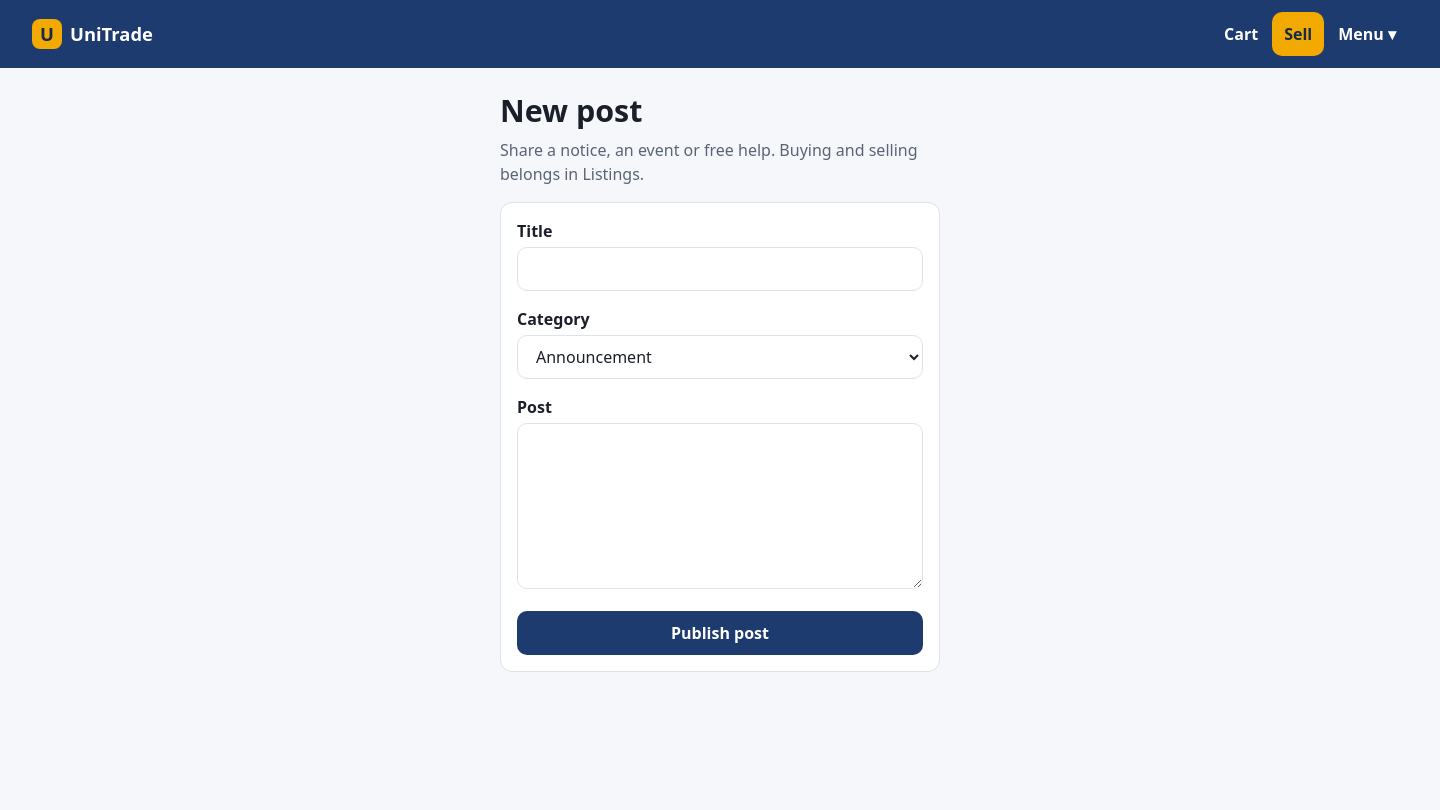
Test: FR5 - bulletin board › fr5_05 the post form checks title and text first, then publishes and opens the post
Click the button "Publish post": (720, 633) [517,611,923,655]
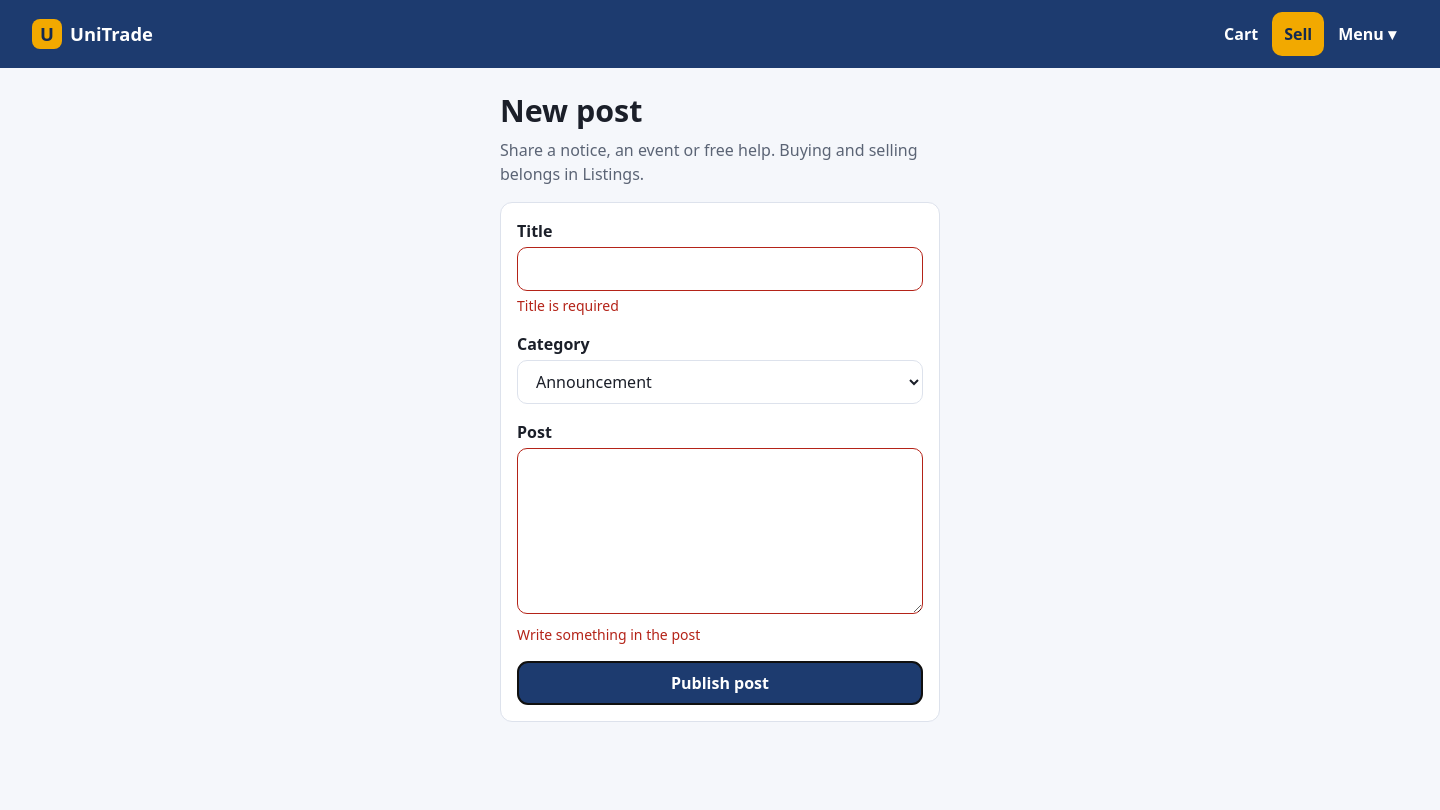
Expected: the text "Title is required" is shown, [517,296,619,315]
Expected: the text "Write something in the post" is shown, [517,625,700,644]
In the field labelled "Title": (720, 269) [517,247,923,291], type "Free tutoring"
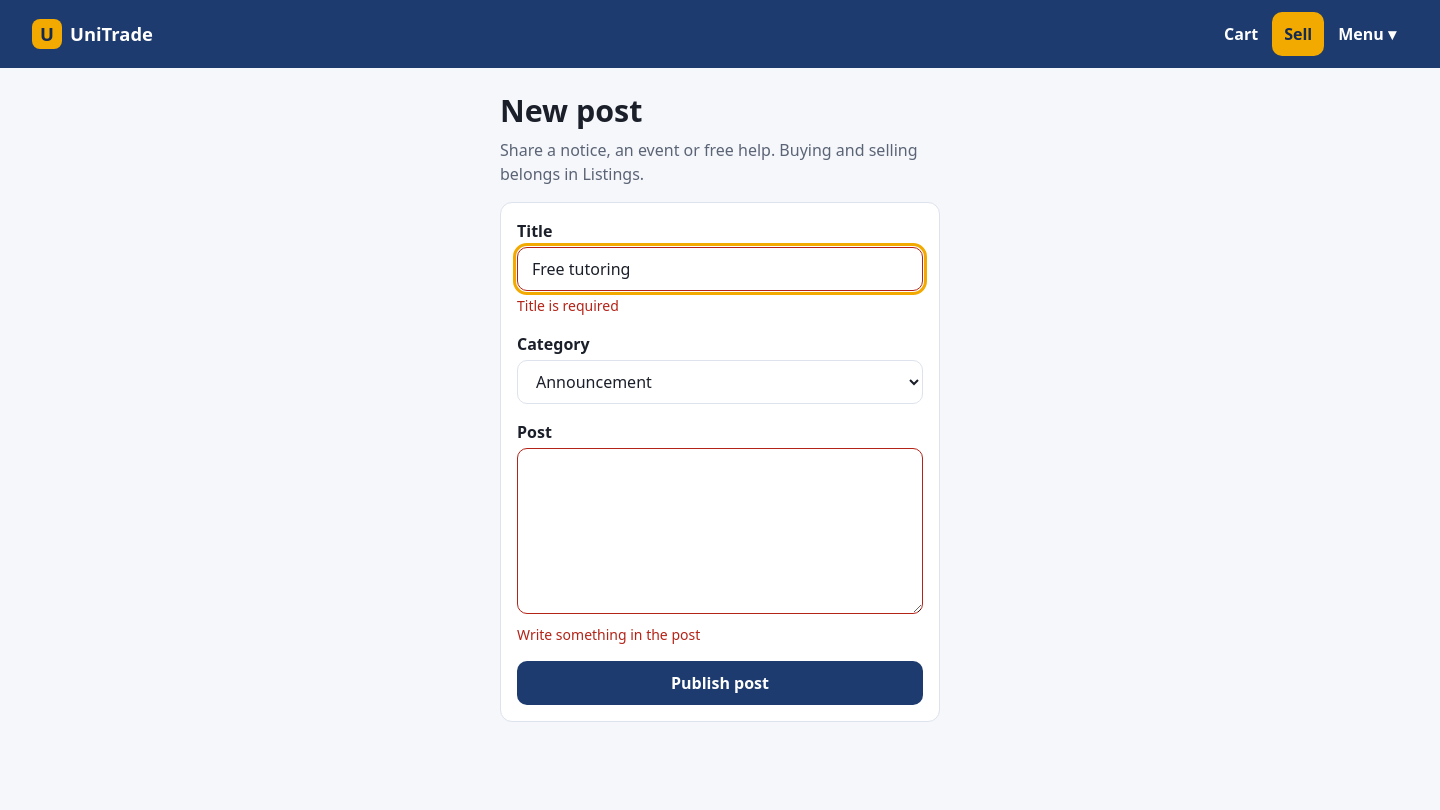
Select "Service" in the dropdown labelled "Category": (720, 382) [517,360,923,404]
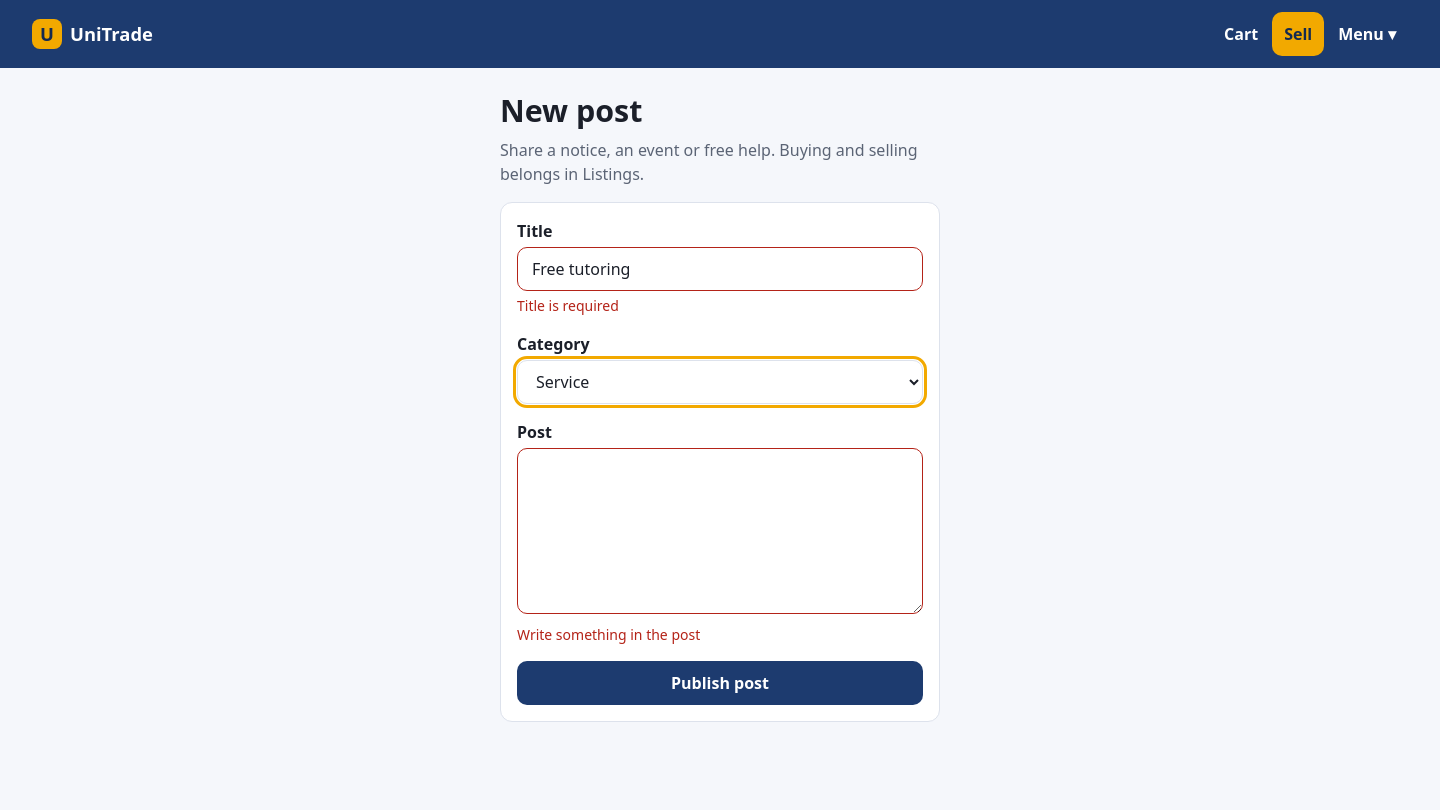
In the text box labelled "Post": (720, 531) [517,448,923,614], type "Every Tuesday"
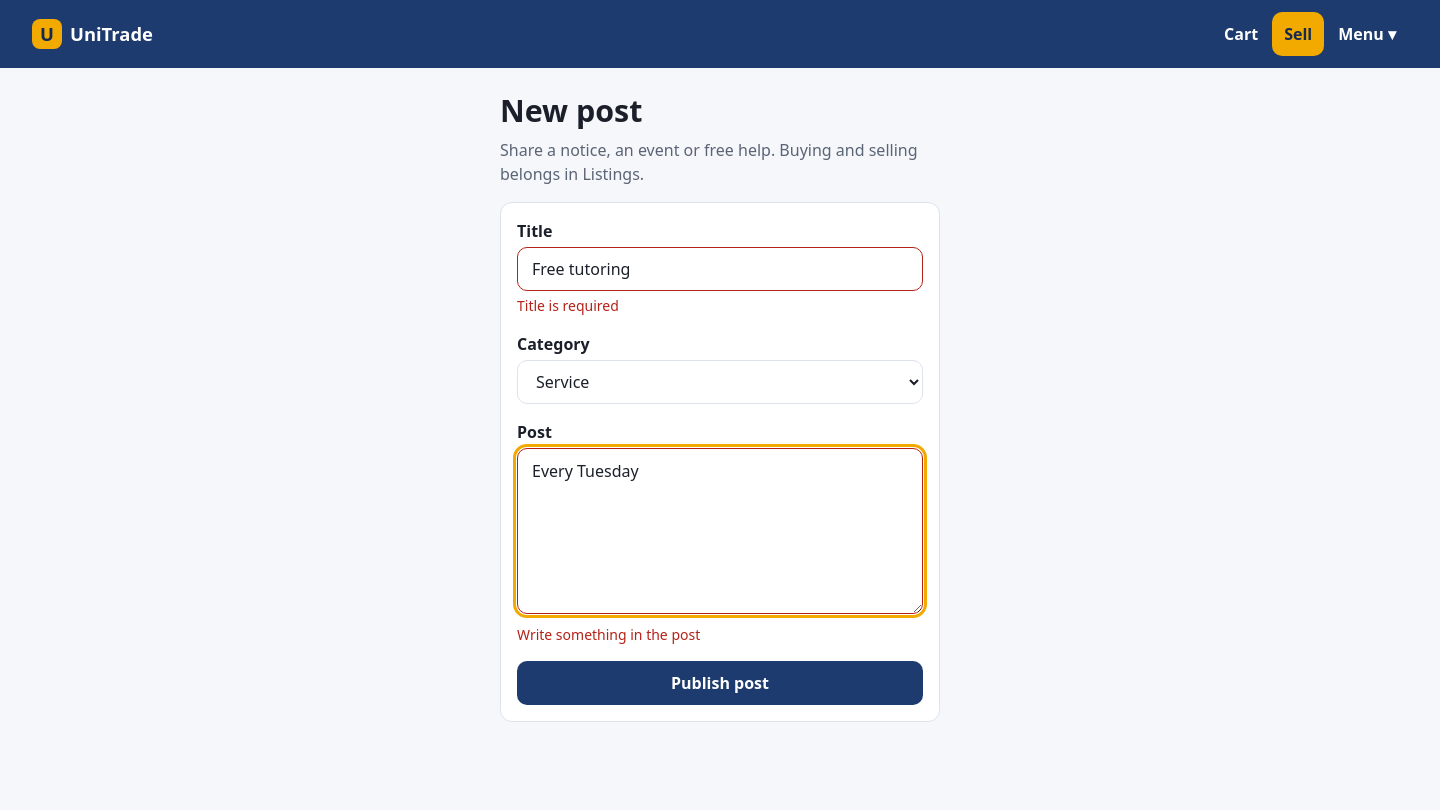
Click the button "Publish post": (720, 683) [517,661,923,705]
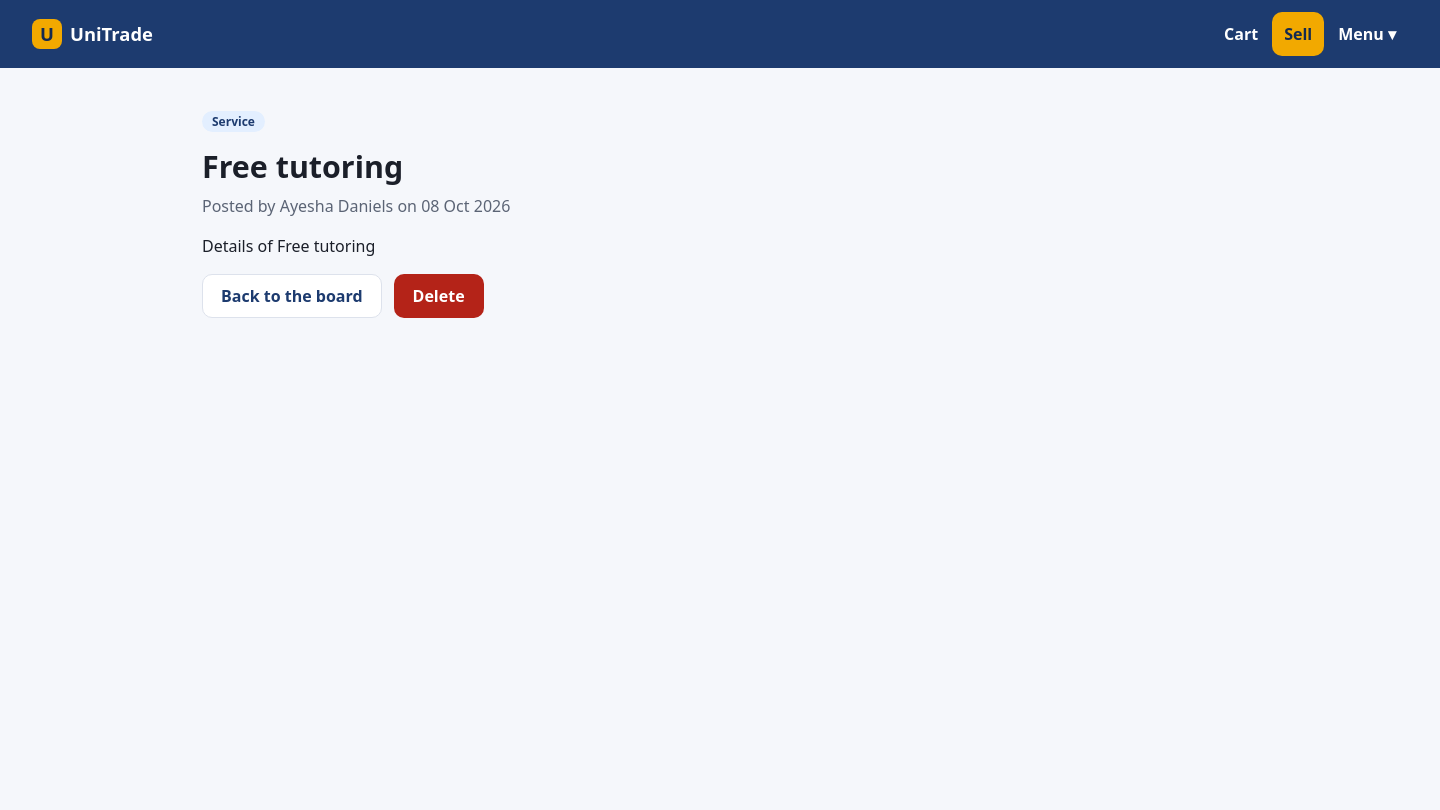
Expected: the heading "Free tutoring" is shown, [202,146,403,187]
